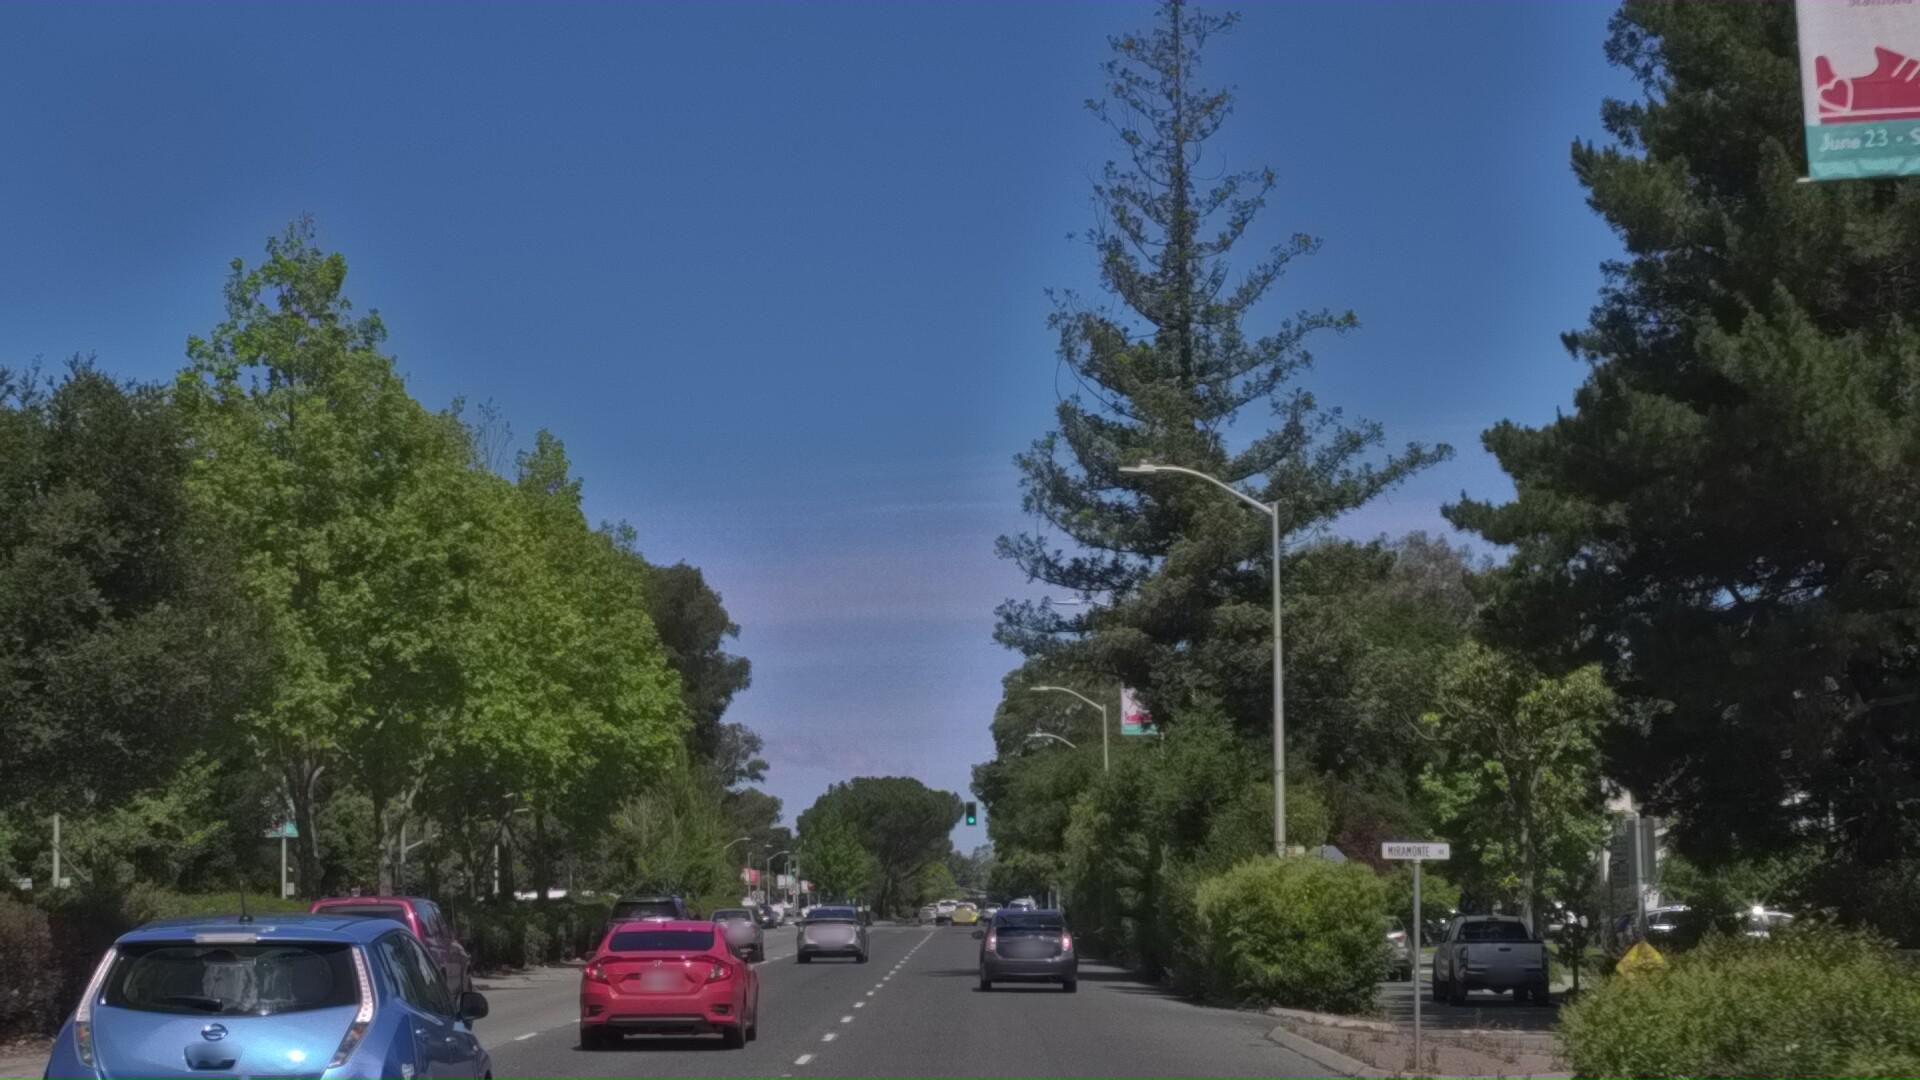car: (1, 963, 512, 1080), (299, 978, 498, 1080), (1609, 1000, 1845, 1080), (575, 990, 767, 1080), (956, 996, 1079, 1080), (1437, 1005, 1555, 1080)
